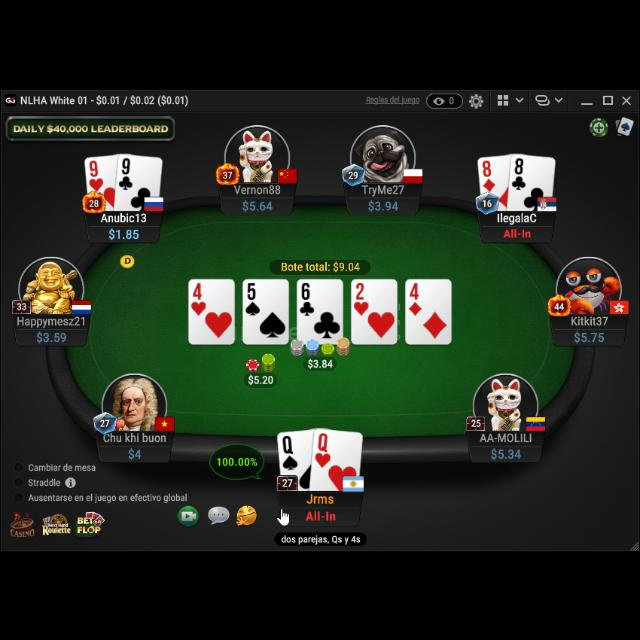2h: (354, 282, 371, 316), (408, 281, 422, 317)
4h: (190, 282, 208, 316)
5s: (245, 281, 261, 317)
6c: (298, 280, 316, 318)
Qh: (314, 432, 332, 468)
Qs: (281, 432, 299, 470)
all_in_symbol: (303, 506, 337, 522), (502, 224, 532, 238)
bet_text: (306, 354, 334, 368), (247, 372, 275, 384)
dealer: (118, 250, 136, 268)
pot_text: (280, 258, 364, 272)
stack_text: (107, 224, 141, 240), (572, 328, 608, 342), (34, 328, 68, 342), (366, 197, 399, 211), (242, 197, 274, 211), (490, 445, 522, 459), (127, 443, 143, 459)
